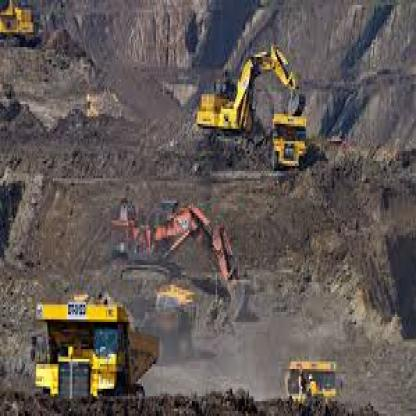dump_truck: (29, 278, 173, 414)
